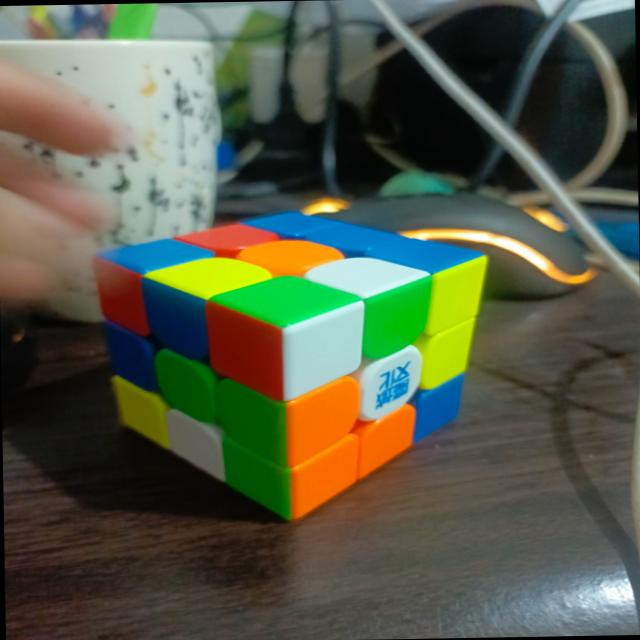rubik: (91, 204, 494, 524)
